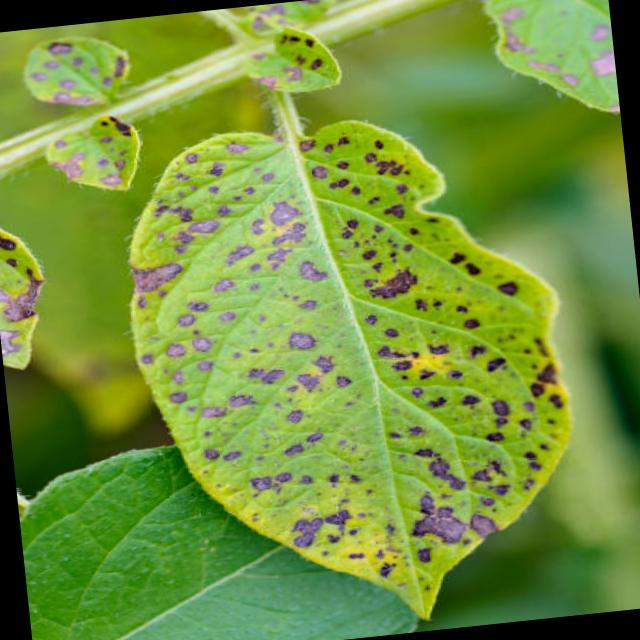leaf_spot: (130, 93, 566, 616)
